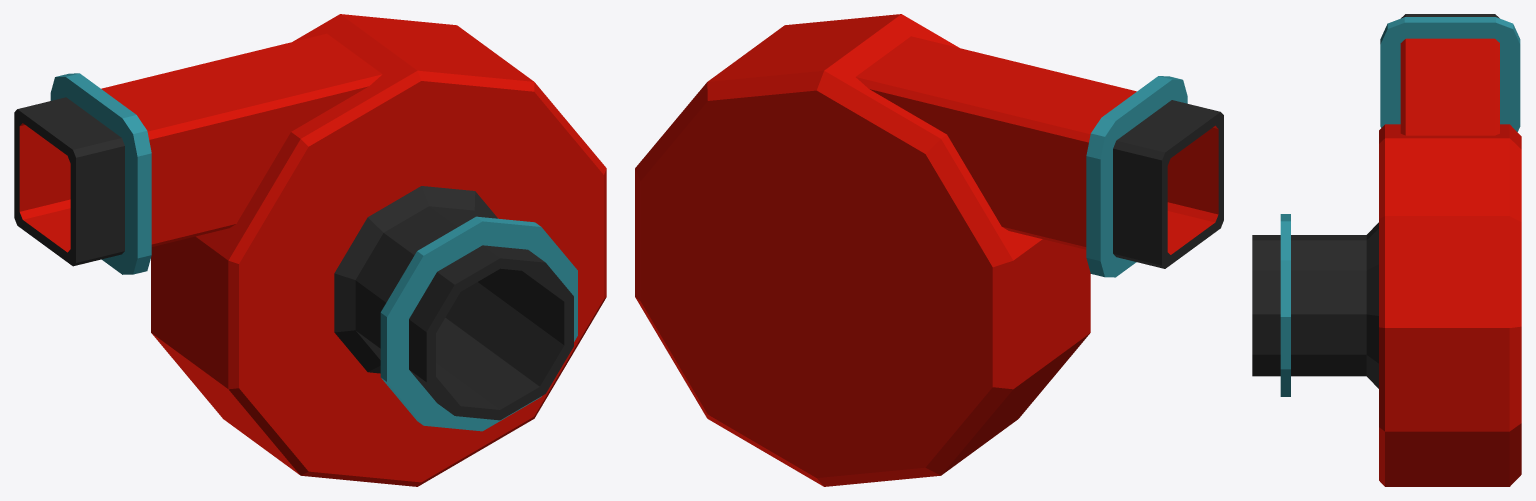
Rendered from Ventilator_03.fbx.
3 renders of one model, left to right at view 1: azimuth 30°, elevation 25°; view 2: azimuth 150°, elevation 25°; view 3: azimuth 270°, elevation 25°, orthographic. The views are drawn at different scales.
Parts seen in each view (by area): view 1: Ventilator_03; view 2: Ventilator_03; view 3: Ventilator_03.
Part boxes in pixels (<box>): Ventilator_03: <box>14,14,606,486</box>; Ventilator_03: <box>635,14,1223,486</box>; Ventilator_03: <box>1252,14,1521,486</box>.
Size of the model in its own units: 62.14 by 48.86 by 34.62.
